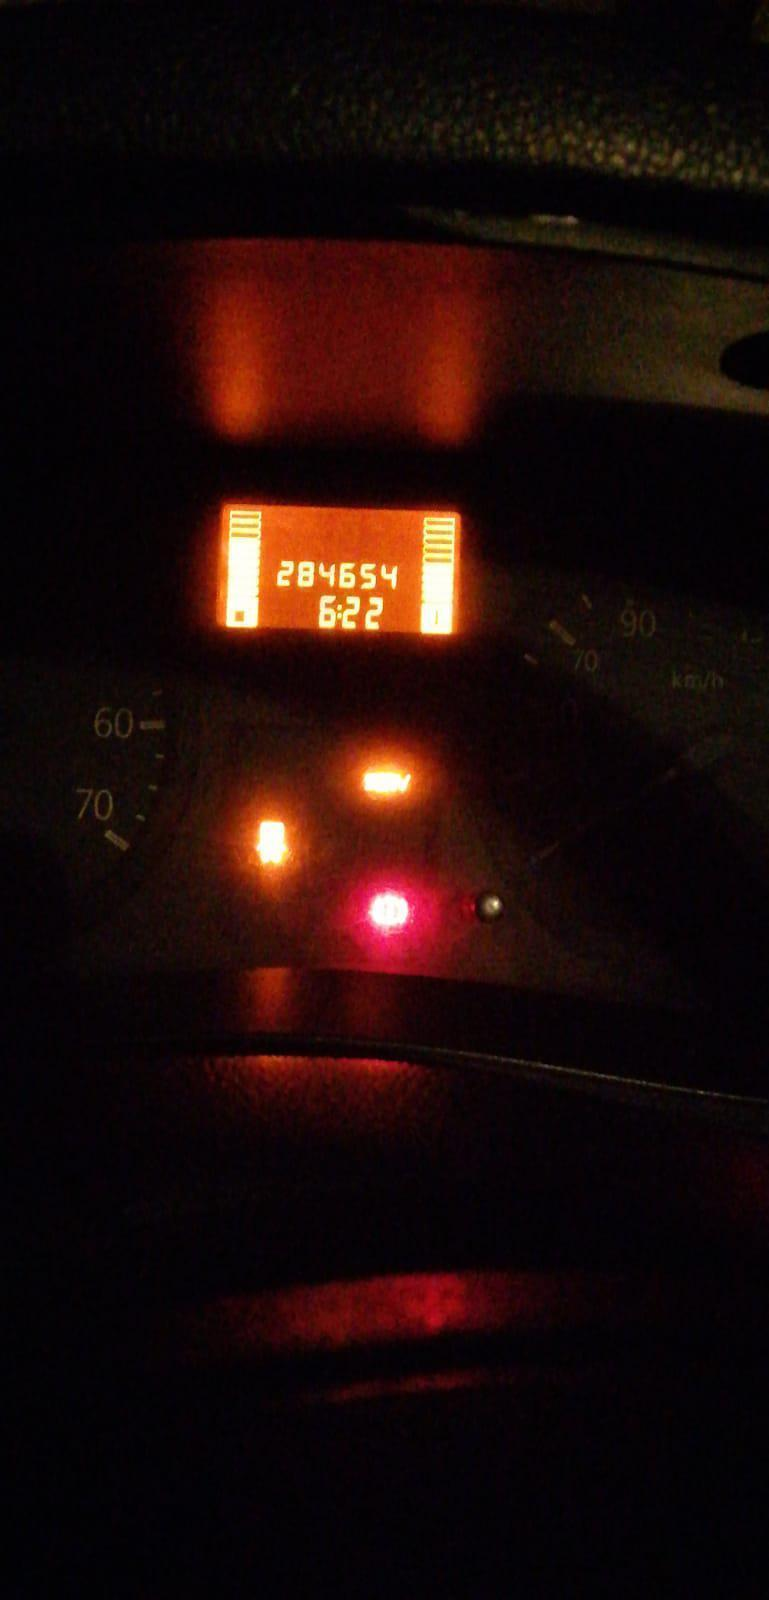2: (364, 597, 385, 630), (342, 595, 361, 629), (275, 559, 294, 587)
4: (380, 563, 398, 590), (318, 561, 335, 588)
5: (359, 562, 377, 590)
6: (317, 594, 336, 629), (338, 562, 356, 589)
8: (296, 560, 315, 588)
X: (335, 603, 342, 619)
odometer: (210, 500, 465, 639)
